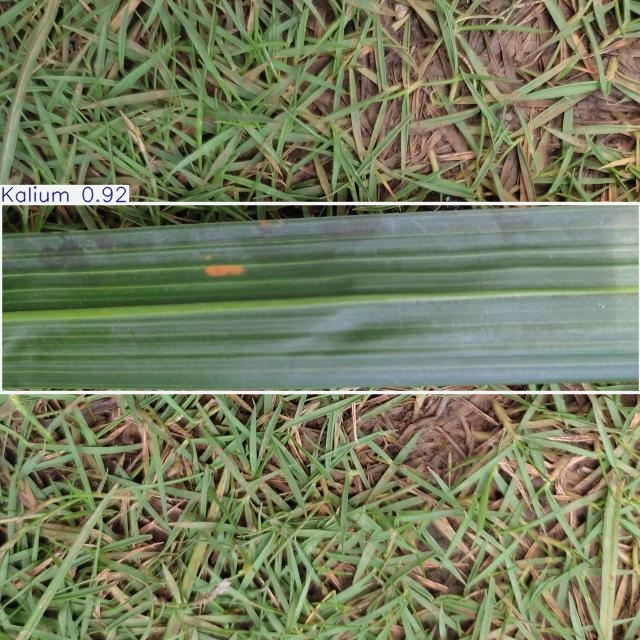Kalium: (0, 203, 640, 392)
